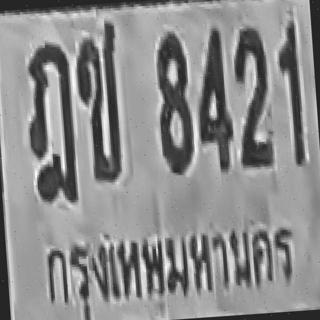A14: (22, 41, 78, 202), (23, 63, 78, 202)
A32: (22, 38, 74, 146)
N01: (275, 20, 304, 140)
N02: (231, 34, 272, 164)
N04: (192, 25, 234, 171)
N08: (152, 28, 194, 174)
P04: (36, 212, 307, 320)
